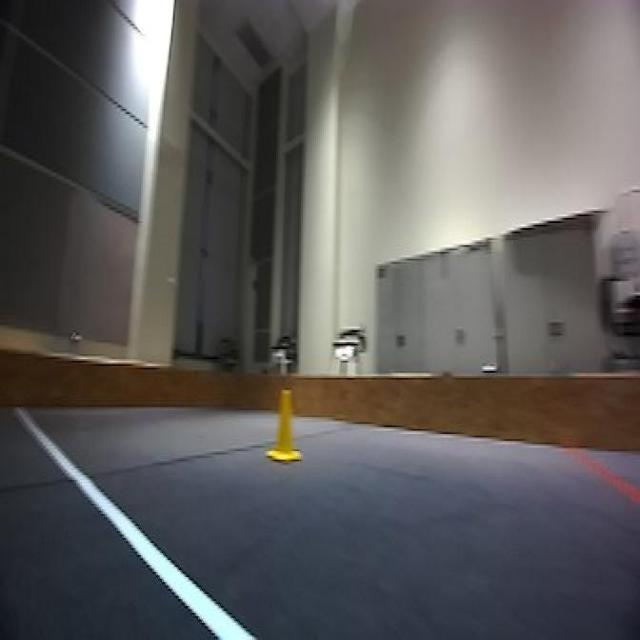frc_cone: (266, 388, 304, 472)
